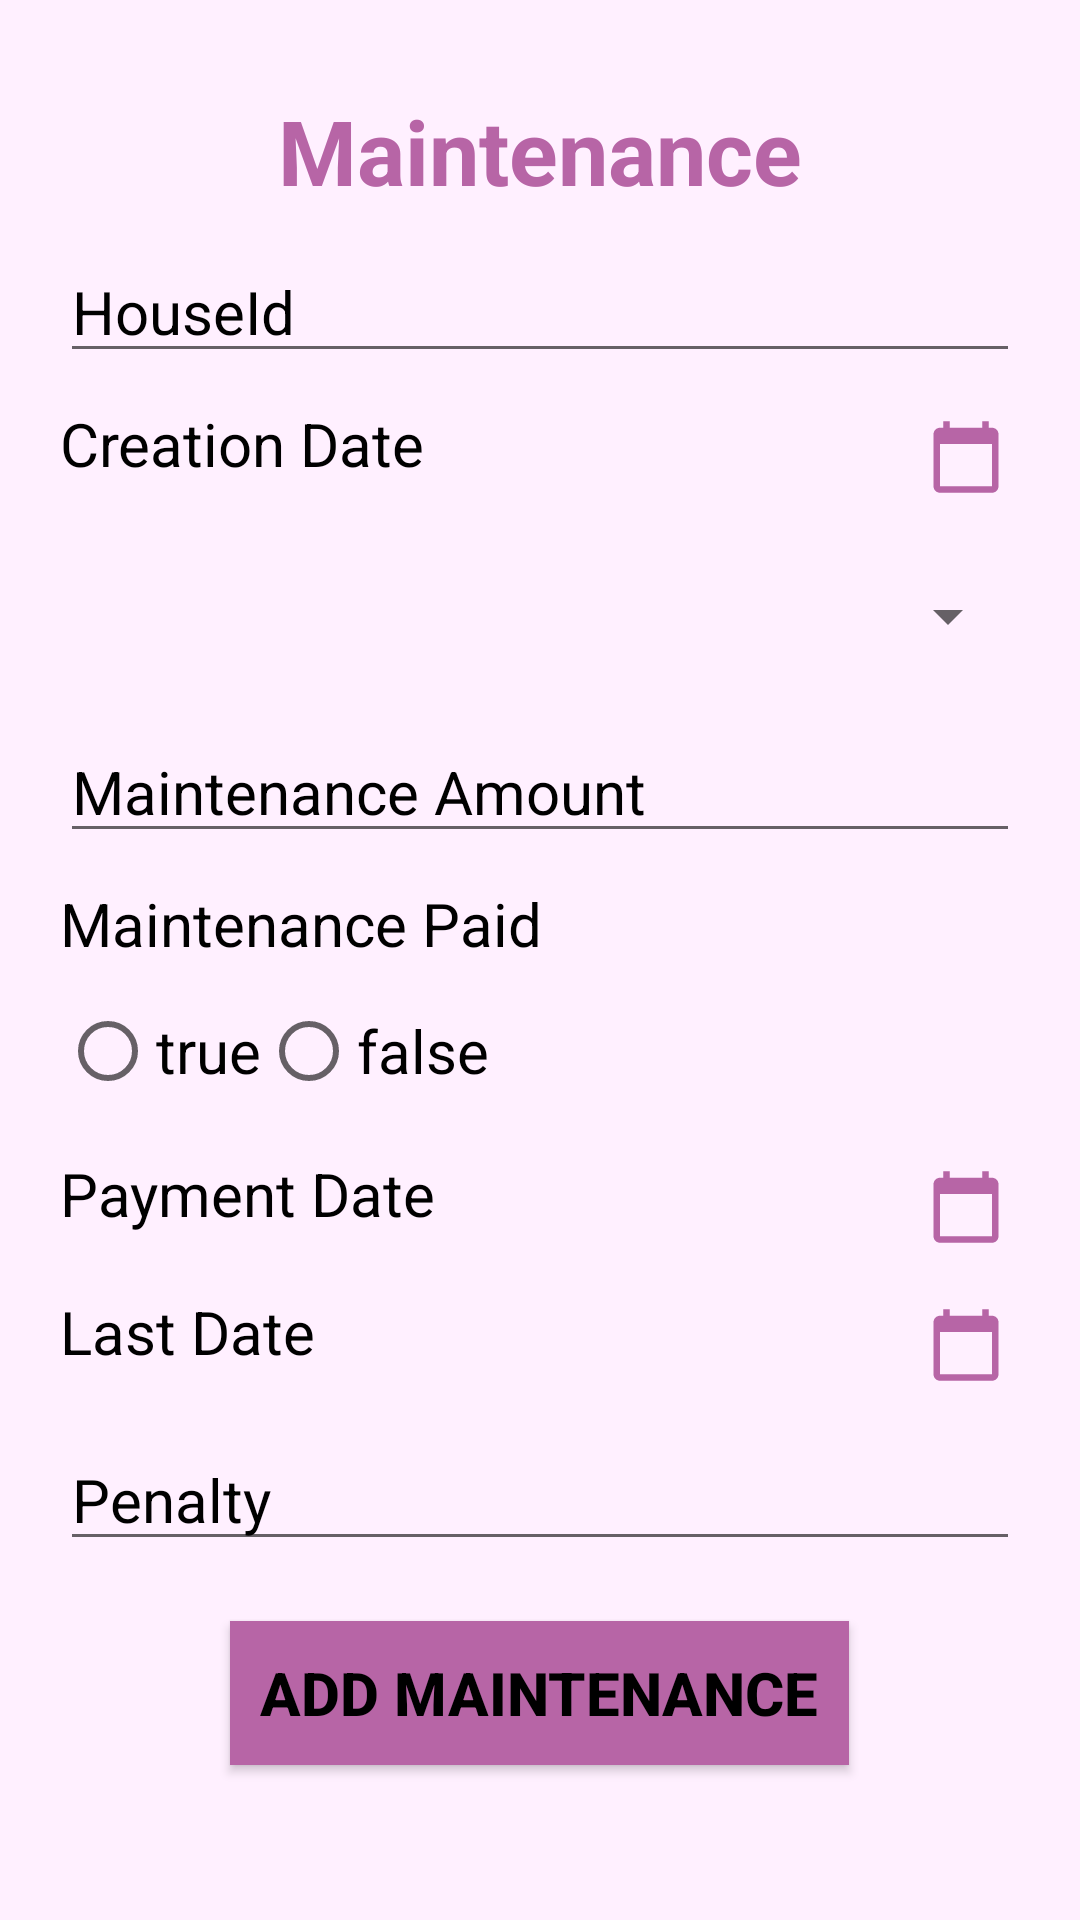

Icon click points for this 1080px×1920px phone screenshot, format point (x, y):
calendar: point (966, 457), point (966, 1207), point (966, 1345)
